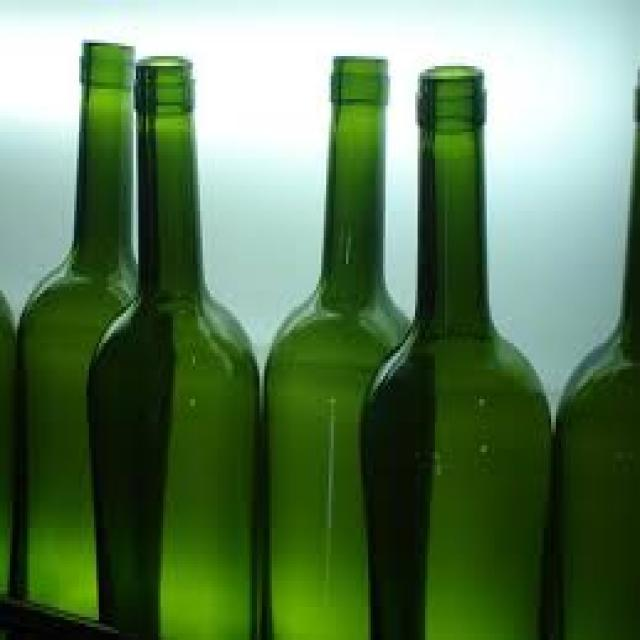Glass-Bottle: (368, 64, 560, 634), (12, 10, 167, 633), (265, 44, 424, 640), (123, 47, 280, 637), (568, 67, 640, 640)
